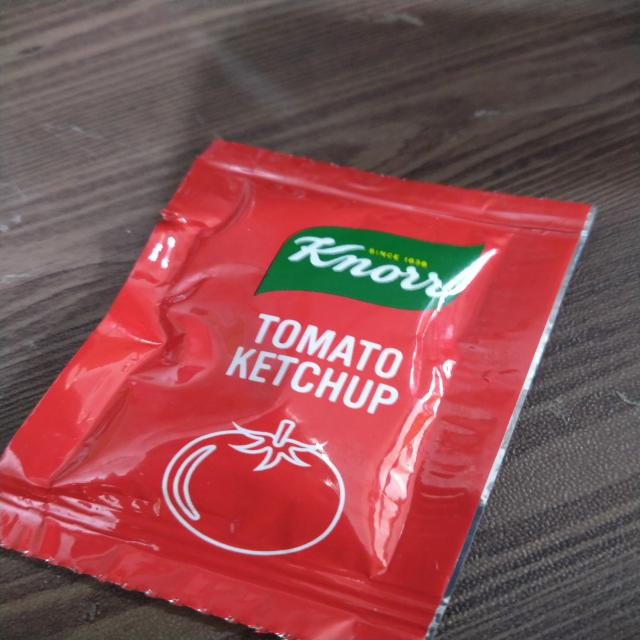electronic: (1, 136, 596, 638)
